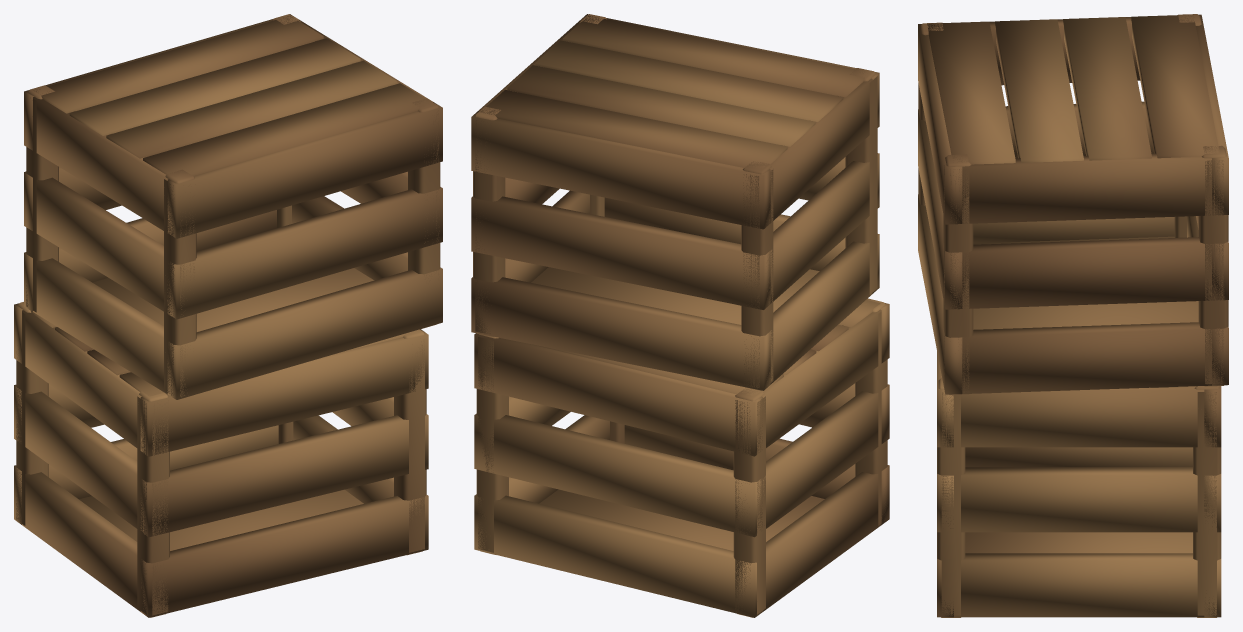
The model's file is crates_2.glb.
3 views of the same model, side by side, from view 1: azimuth 30°, elevation 25°; view 2: azimuth 150°, elevation 25°; view 3: azimuth 270°, elevation 25° (orthographic). The views are drawn at different scales.
Parts seen in each view (by area): view 1: crates_2; view 2: crates_2; view 3: crates_2.
Part boxes in pixels (<box>): crates_2: <box>14,14,442,617</box>; crates_2: <box>471,14,889,617</box>; crates_2: <box>918,14,1228,617</box>.
Size of the model in its own units: 0.639 by 0.9 by 0.5463.
